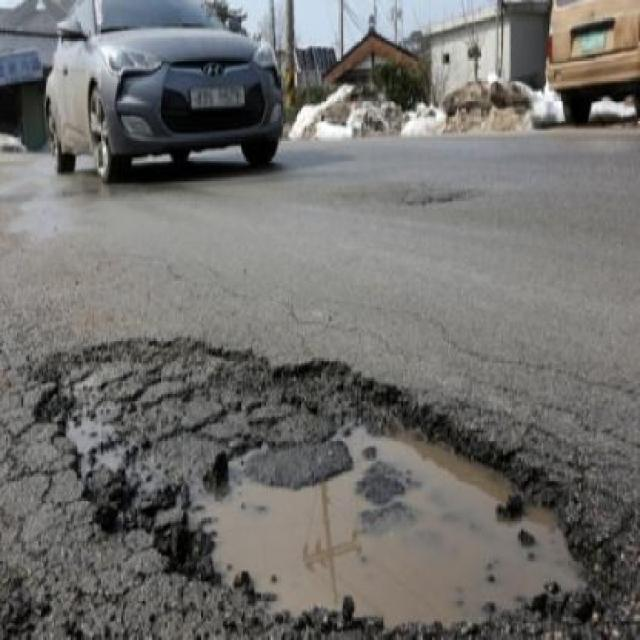Pothole: (52, 342, 630, 638)
